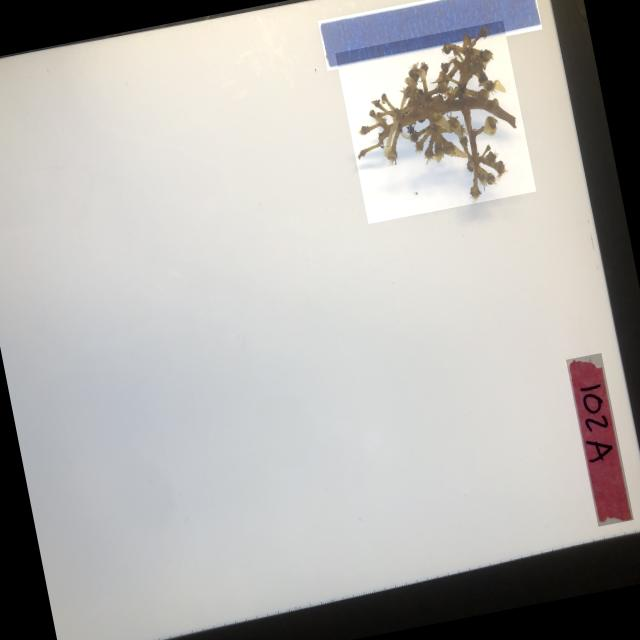index: (564, 353, 632, 527)
measure_label: (317, 0, 542, 71)
rachis_cluster: (334, 21, 536, 224)
